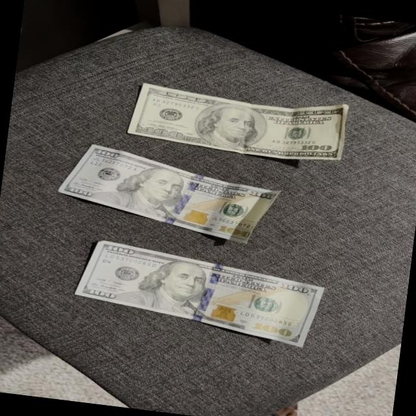one_hundred-front: (71, 234, 331, 359), (57, 139, 288, 244), (124, 78, 354, 168)
